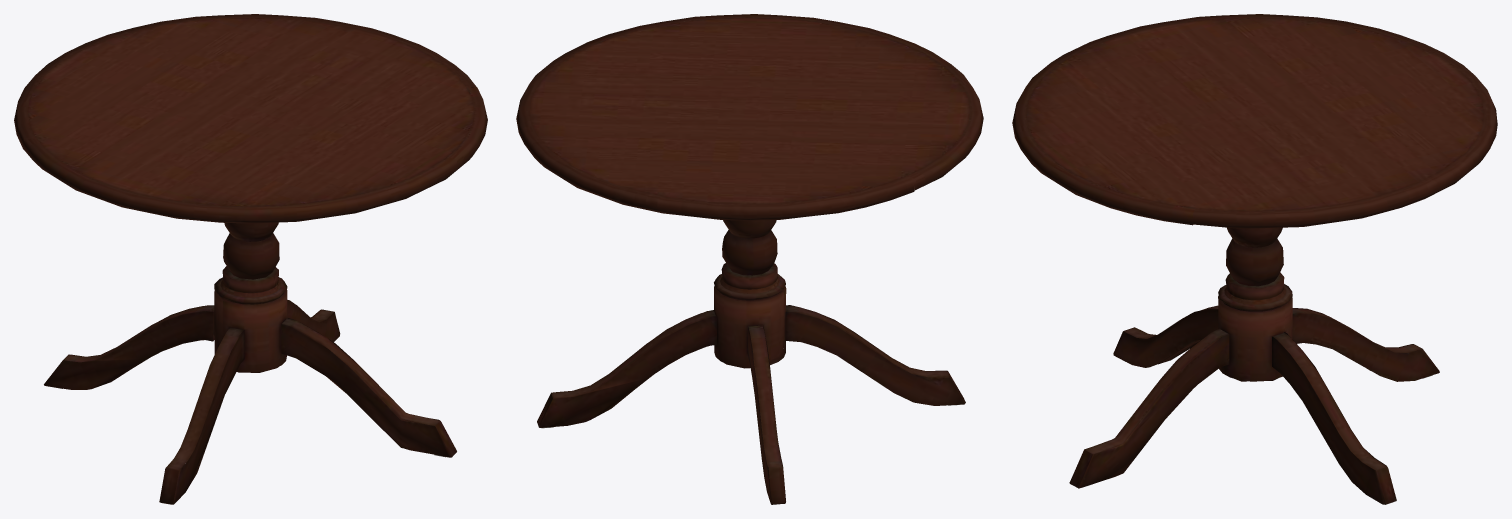
The model's file is table_round_large.glb.
3 renders of one model, left to right at view 1: azimuth 30°, elevation 25°; view 2: azimuth 150°, elevation 25°; view 3: azimuth 270°, elevation 25°, orthographic. The views are drawn at different scales.
Visible parts, largest first — view 1: round_wooden_table_01; view 2: round_wooden_table_01; view 3: round_wooden_table_01.
Part boxes in pixels (box(x1,y1,x2,y2)): round_wooden_table_01: box(14, 14, 487, 504); round_wooden_table_01: box(516, 14, 983, 504); round_wooden_table_01: box(1012, 14, 1497, 504).
Bounding box in the file's own units: 1.4 × 1 × 1.4.
Materials: 1 (1 with a texture image).
